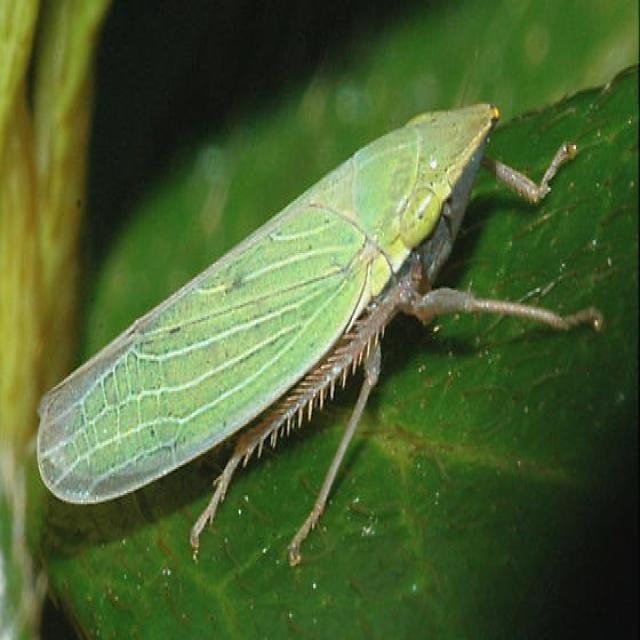wereng pada daun padi: (32, 90, 603, 568)
